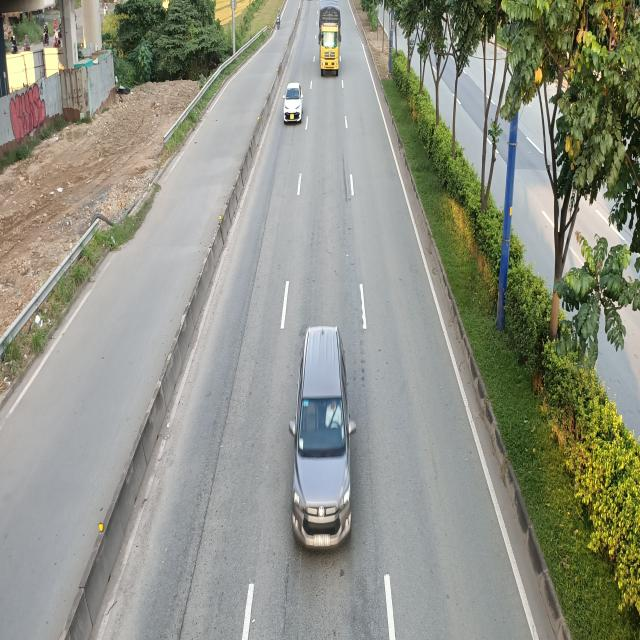car: (292, 326, 358, 548), (282, 82, 302, 124)
truck: (318, 0, 342, 77)
